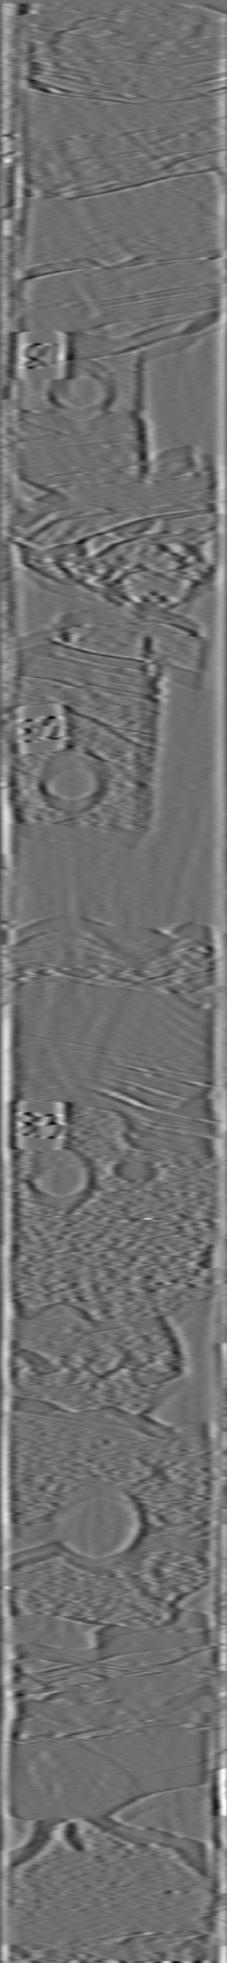hplug: (33, 741, 114, 821), (18, 1143, 103, 1213), (36, 351, 118, 423)
scal: (48, 1474, 144, 1580)
vplug: (130, 631, 201, 838), (134, 329, 214, 486)
